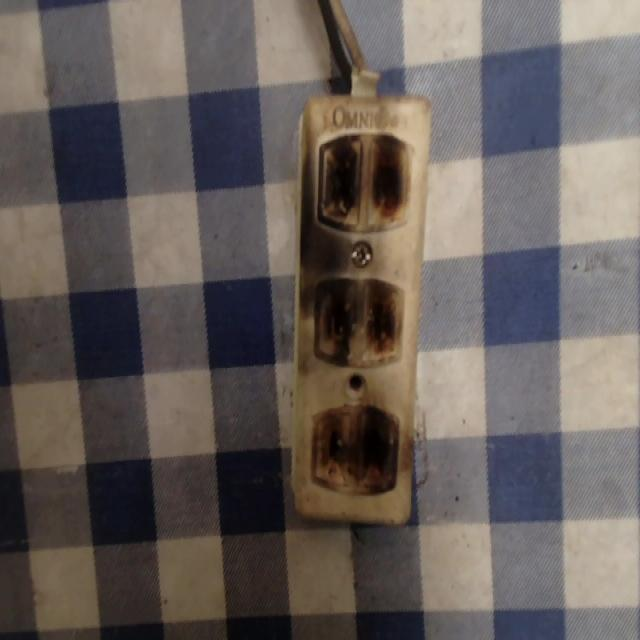-: (314, 130, 414, 233), (311, 272, 404, 367), (309, 399, 403, 489)
